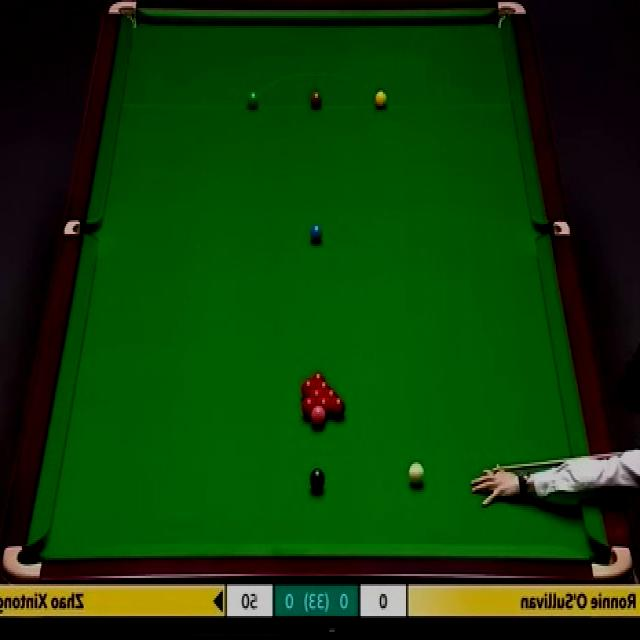black-ball: (308, 466, 325, 494)
blue-ball: (308, 222, 323, 246)
brown-ball: (309, 91, 323, 111)
green-ball: (244, 90, 258, 112)
pink-ball: (310, 404, 326, 428)
red-ball: (330, 396, 346, 420), (302, 397, 316, 419), (316, 398, 332, 417), (306, 388, 324, 402), (301, 380, 316, 395), (309, 371, 328, 381), (315, 380, 332, 390), (322, 389, 337, 400)
white-ball: (406, 461, 424, 490)
yellow-ball: (374, 90, 388, 110)
